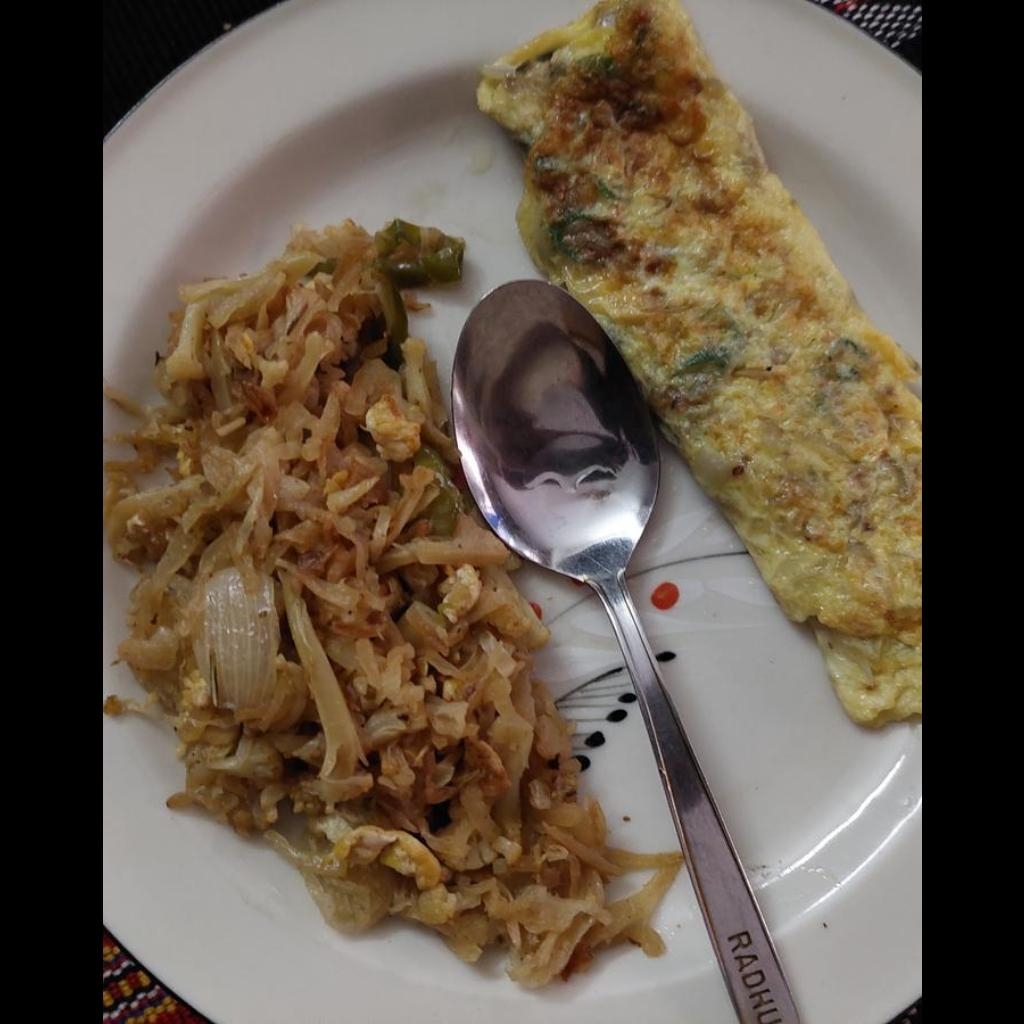egg-poached: (473, 1, 920, 724)
vaji: (102, 219, 672, 986)
